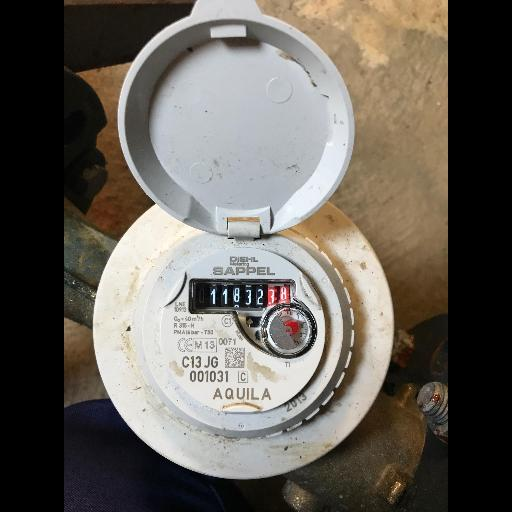0: (197, 284, 208, 307)
1: (209, 284, 217, 307), (222, 285, 229, 308)
2: (257, 285, 264, 308)
3: (267, 286, 275, 307), (245, 285, 252, 308)
8: (232, 285, 240, 308), (279, 286, 289, 302)
border_water_meter_number: (193, 280, 294, 314)
